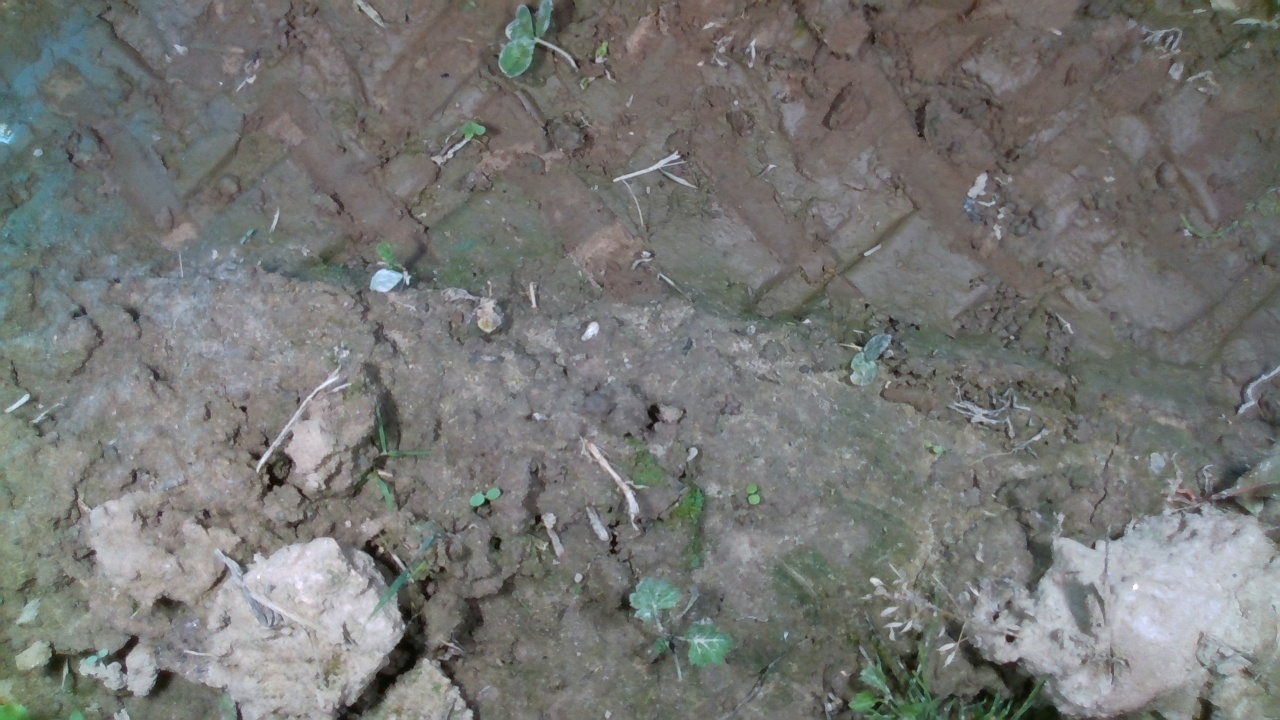weed: (468, 485, 502, 508), (743, 481, 761, 505)
